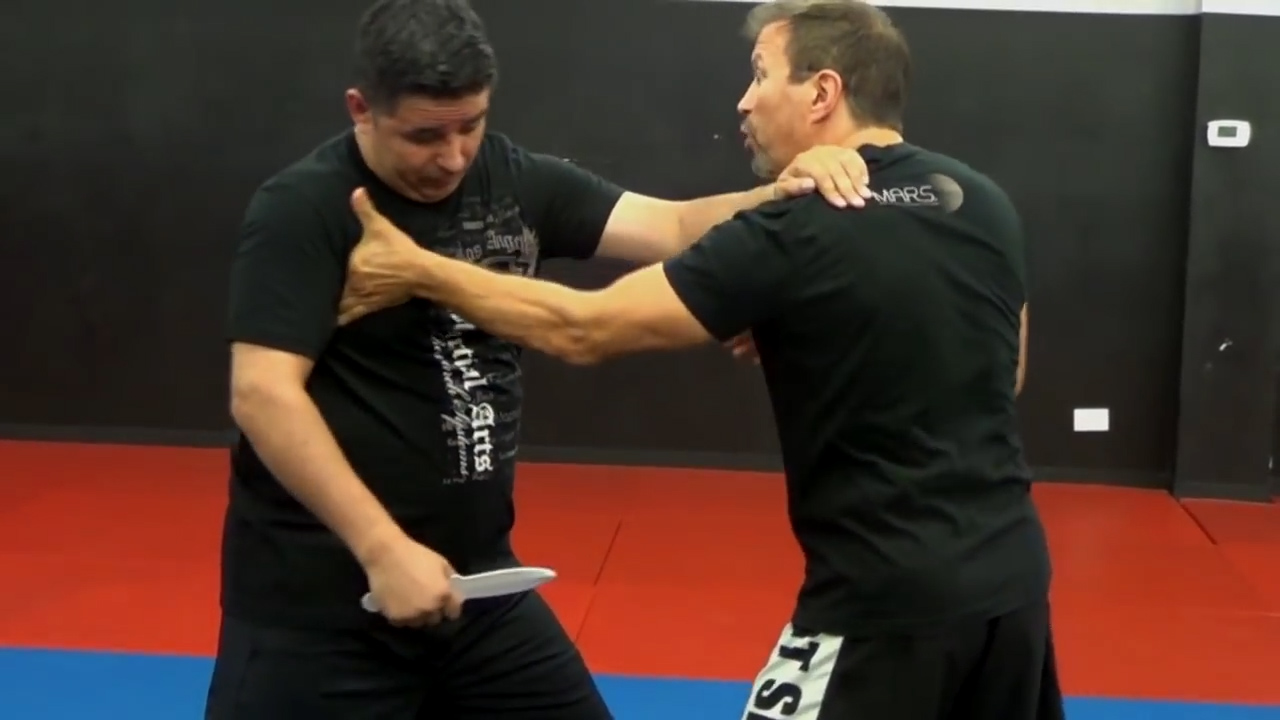knife: (358, 553, 571, 630)
